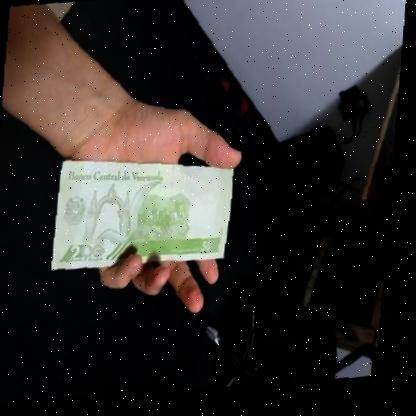fifty-back-vef: (51, 144, 241, 279)
